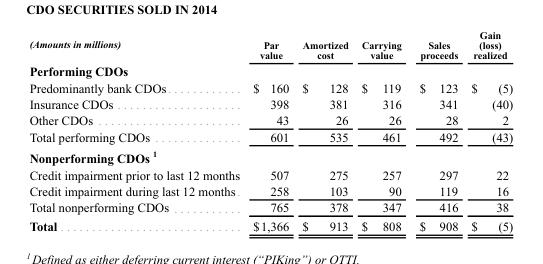table: (28, 28, 512, 233)
table column: (28, 28, 245, 233), (294, 28, 354, 233), (354, 28, 409, 233), (409, 28, 464, 233), (245, 28, 294, 233), (464, 28, 512, 233)
table column header: (28, 28, 512, 61)
table projected row header: (28, 146, 512, 166), (28, 61, 512, 78)
table row: (28, 28, 512, 61), (28, 146, 512, 166), (28, 128, 512, 146), (28, 61, 512, 78), (28, 78, 512, 95), (28, 111, 512, 128), (28, 182, 512, 199), (28, 199, 512, 216), (28, 216, 512, 233), (28, 95, 512, 111), (28, 166, 512, 182)
